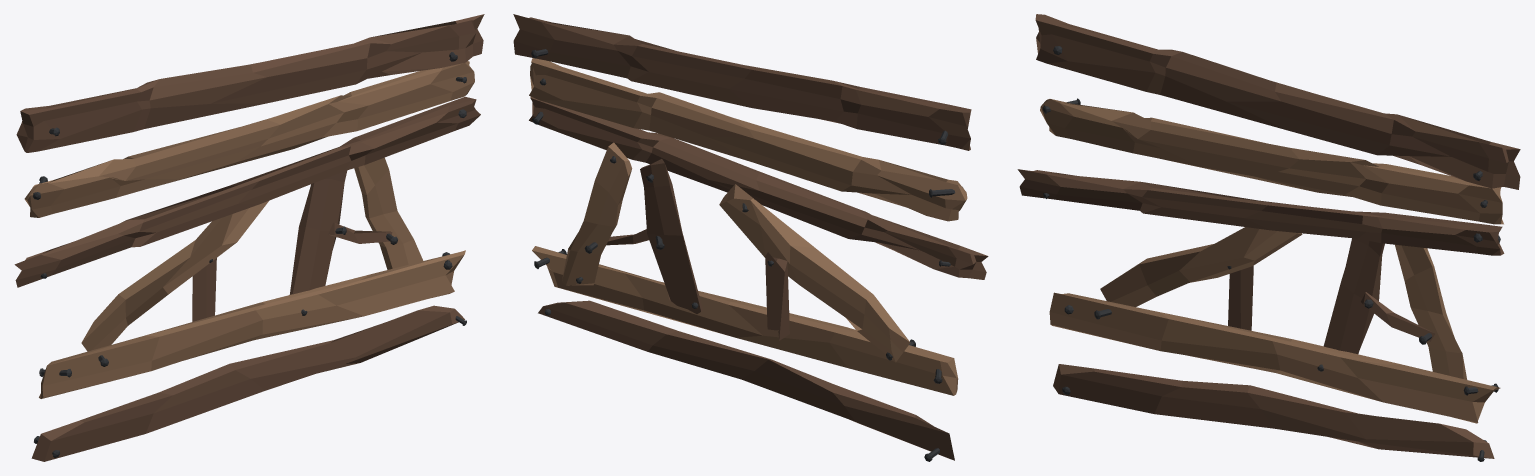
The model's file is Fence No Posts.fbx.
3 views of the same model, side by side, from view 1: azimuth 30°, elevation 25°; view 2: azimuth 150°, elevation 25°; view 3: azimuth 330°, elevation 25° (orthographic). The views are drawn at different scales.
Visible parts, largest first — view 1: Fence Bar 7.000; view 2: Fence Bar 7.000; view 3: Fence Bar 7.000.
Boxes of the visible parts, x1,y1,x2,y2 form: Fence Bar 7.000: (14, 14, 484, 461); Fence Bar 7.000: (513, 14, 988, 461); Fence Bar 7.000: (1017, 14, 1520, 461).
Bounding box in the file's own units: 442 × 46.7 × 316.
